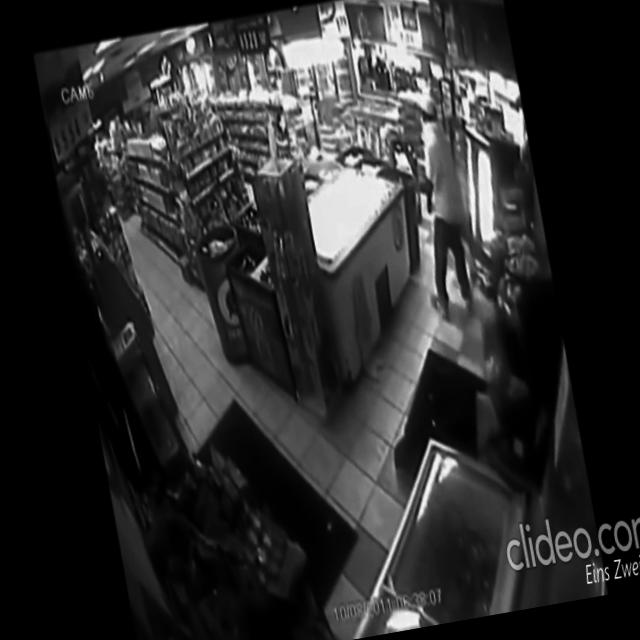person: (466, 264, 584, 466), (394, 87, 484, 323)
